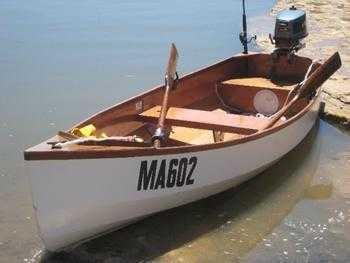kayak: (23, 0, 341, 252)
